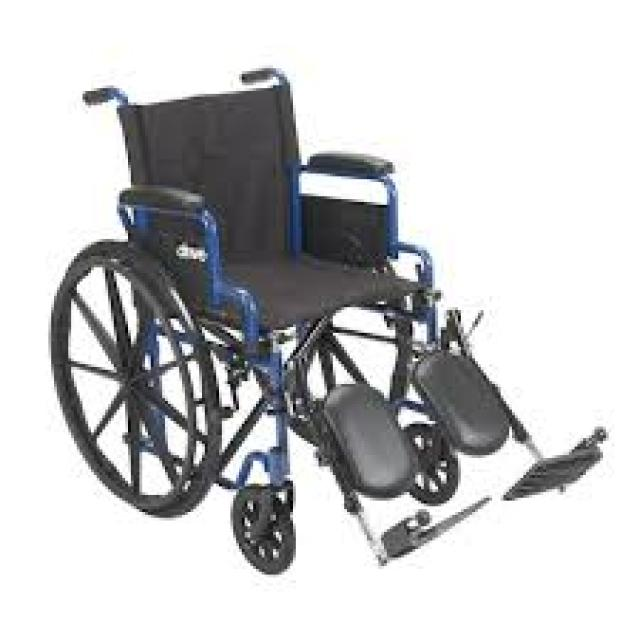wheelchairs: (43, 68, 606, 606)
